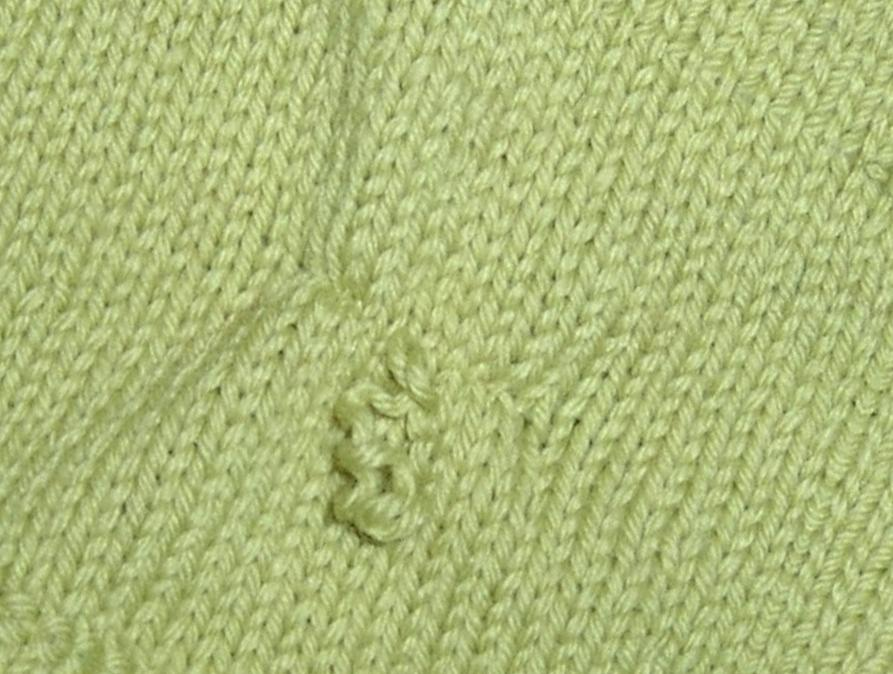knot: (321, 334, 444, 555)
